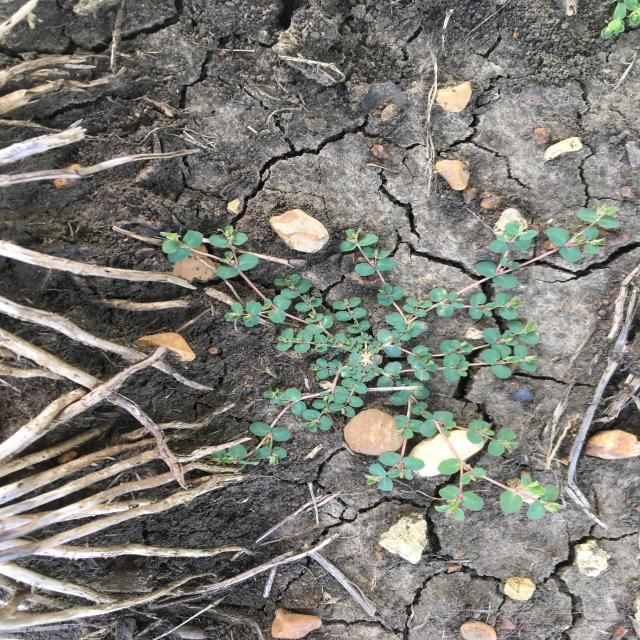SpottedSpurge: (158, 199, 622, 524)
